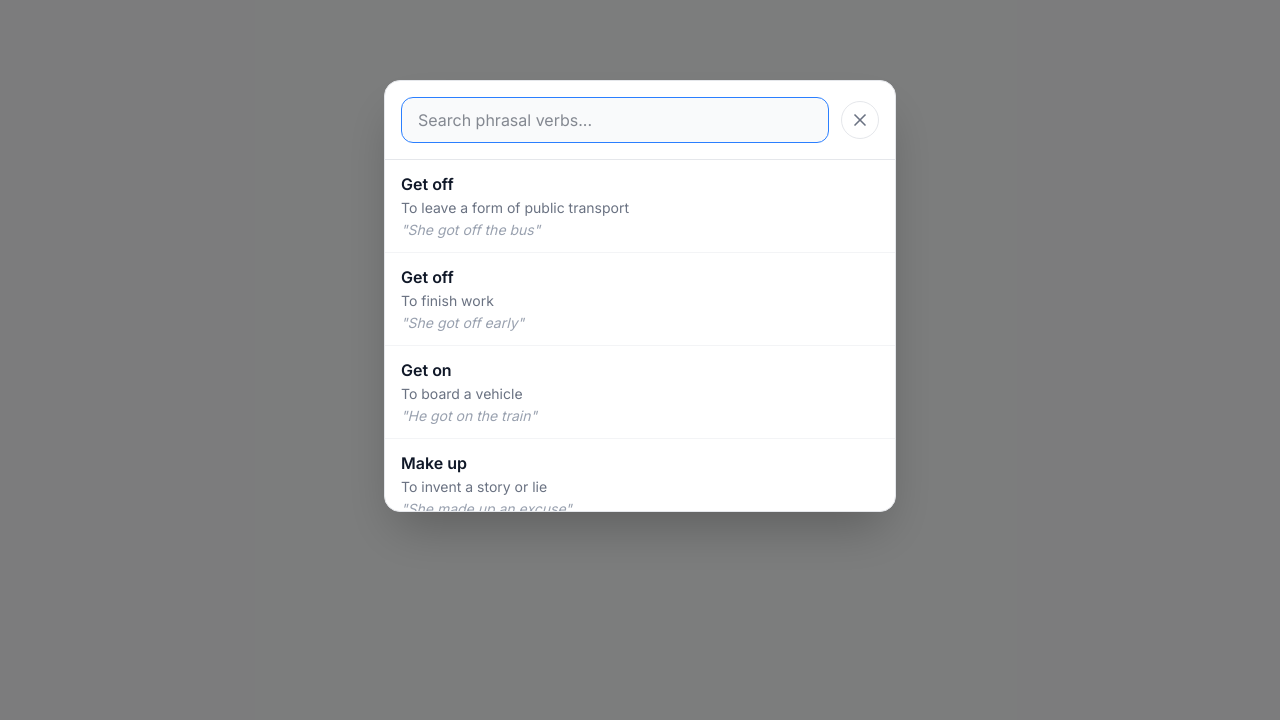
Test: ListSearchModal › finds entry by a non-first meaning definition
The width and height of the screenshot is (1280, 720).
In the field with placeholder "Search phrasal verbs...": (615, 120) [401, 97, 829, 143], type "reconcile"
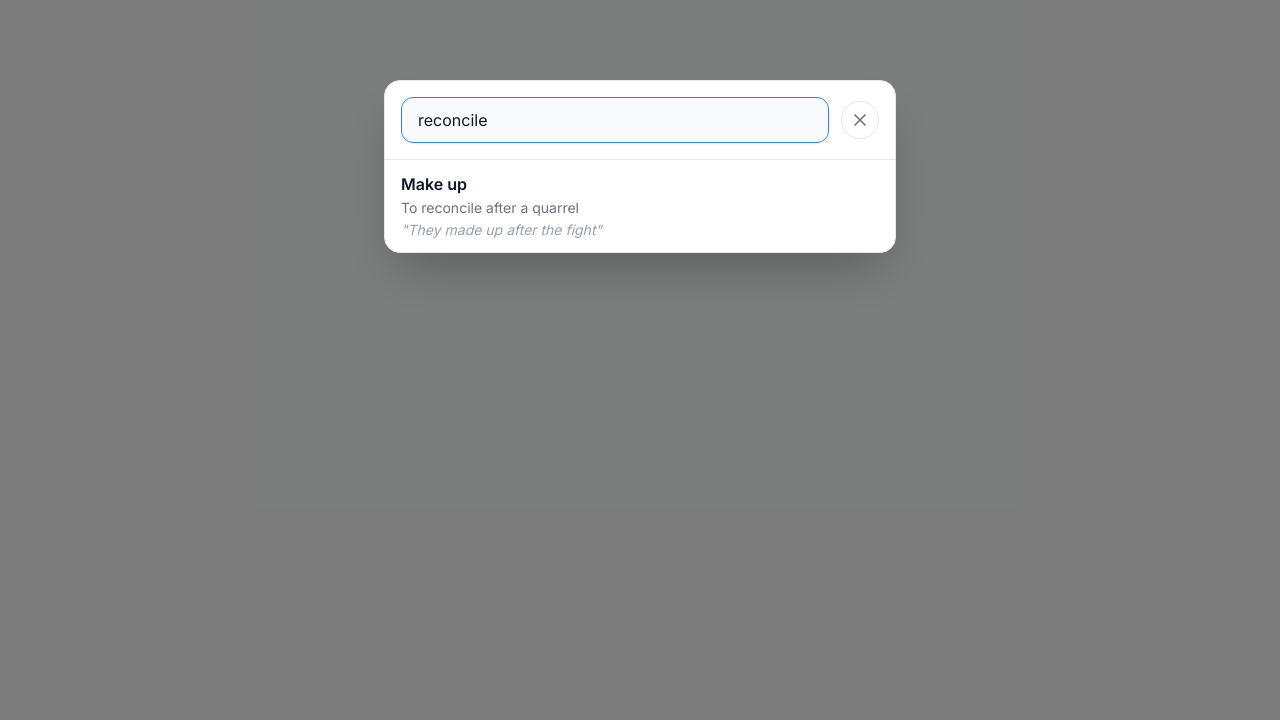
Expected: the text "Make up" is shown, [401, 174, 467, 194]
Expected: the number of list items is 1, [401, 174, 602, 238]
